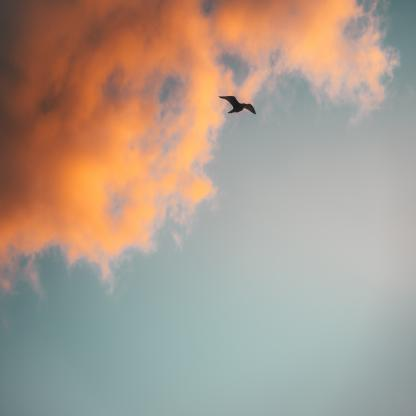bird: (219, 96, 256, 115)
